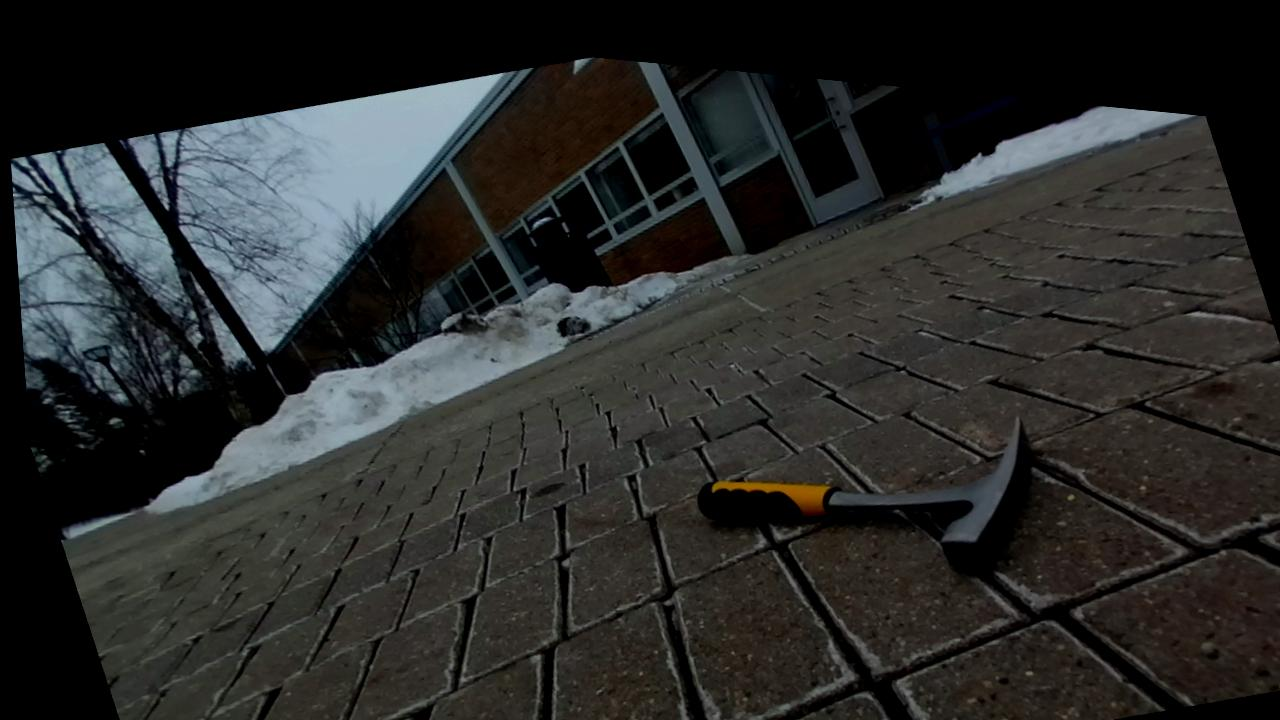pick: (696, 418, 1031, 572)
